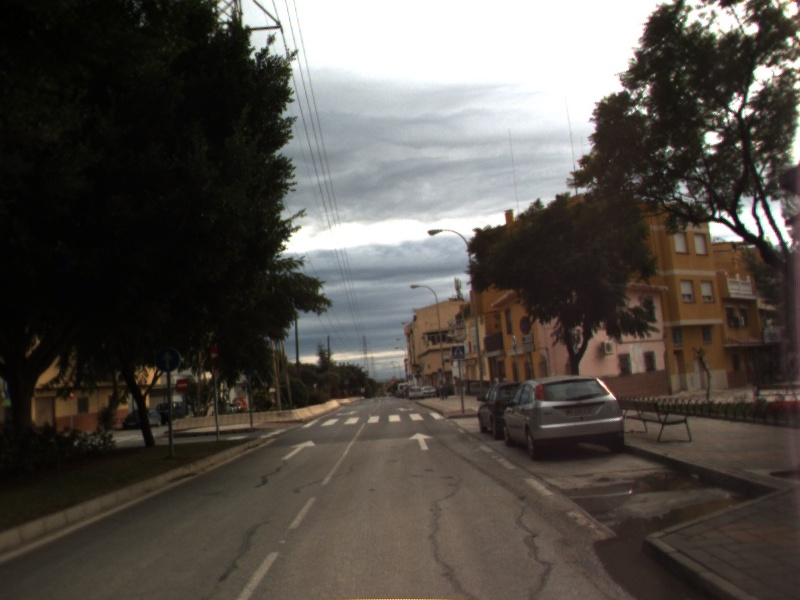STRAIGHT: (279, 438, 318, 461), (407, 430, 436, 452)
